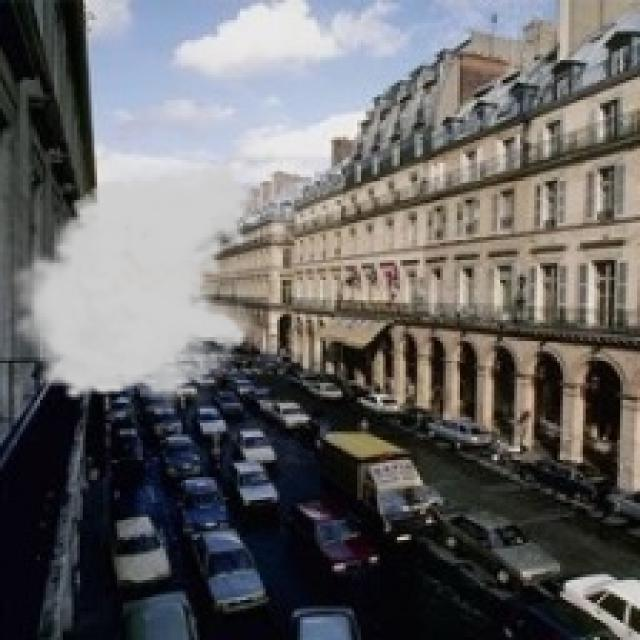smoke: (3, 163, 263, 414)
